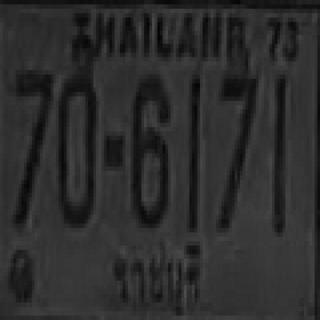N00: (56, 72, 96, 221)
N01: (271, 75, 287, 232), (187, 77, 200, 230)
N06: (131, 74, 168, 224)
N07: (216, 72, 256, 226), (13, 66, 51, 224), (15, 68, 52, 186)
P52: (107, 239, 207, 319)
